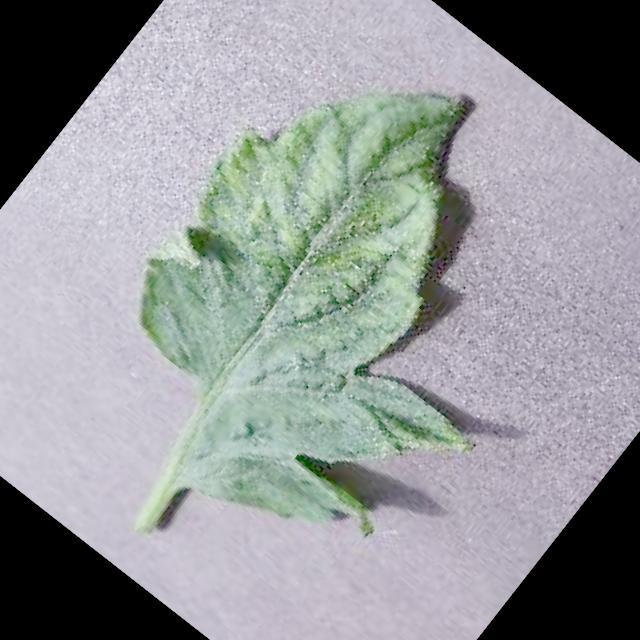Tomato mosaic virus leaf: (49, 0, 640, 617)
